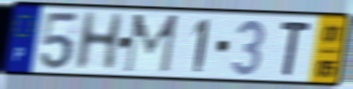1: (192, 18, 210, 74)
3: (230, 17, 268, 78)
5: (37, 10, 80, 72)
H: (71, 10, 126, 73)
M: (122, 12, 181, 75)
T: (278, 19, 313, 79)
